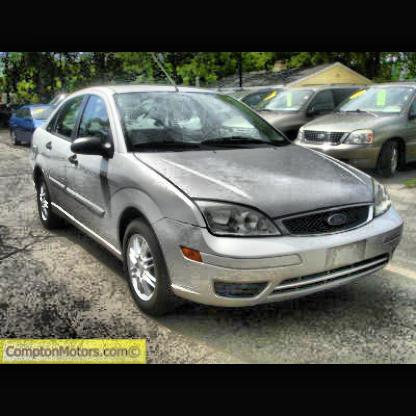Ford Focus Sedan 2007: (33, 57, 404, 321)
